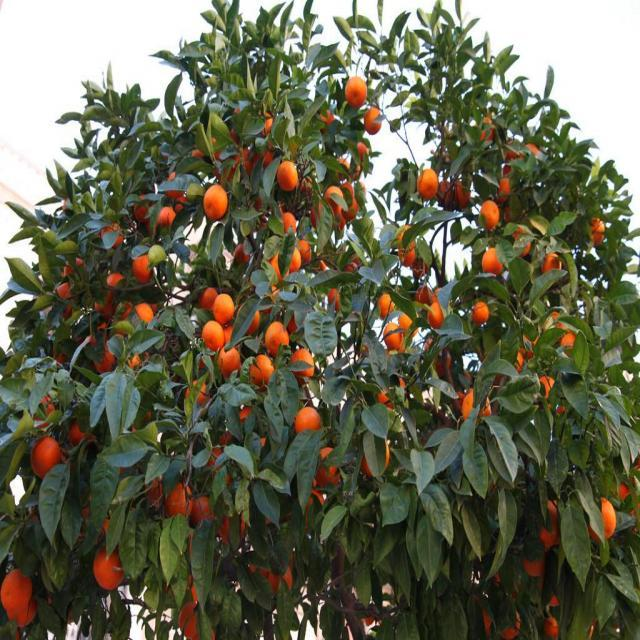Jeruk Sudah Matang: (87, 534, 129, 590), (27, 430, 65, 480), (338, 71, 378, 115), (584, 494, 622, 538), (283, 339, 319, 384), (474, 188, 504, 238), (162, 478, 196, 522), (290, 399, 324, 442), (1, 564, 31, 612), (198, 183, 236, 220), (358, 96, 391, 138), (196, 312, 226, 355), (216, 336, 244, 382), (249, 350, 279, 388), (417, 162, 444, 202), (262, 320, 292, 356), (477, 242, 508, 276), (277, 206, 305, 243), (276, 156, 300, 198), (425, 294, 453, 330), (372, 284, 398, 322), (378, 317, 406, 352), (209, 290, 237, 324), (128, 248, 154, 282), (469, 290, 491, 328), (282, 241, 306, 274)
